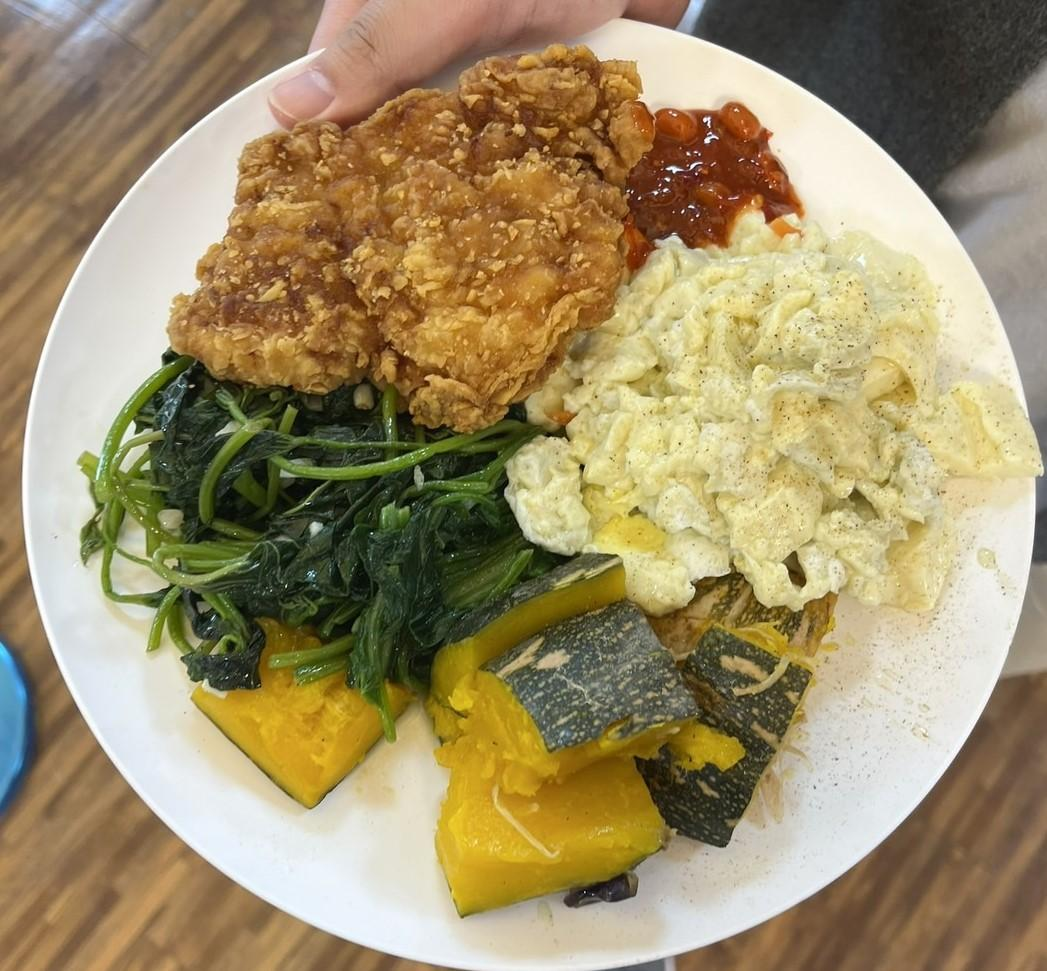braised fish fillet: (181, 552, 839, 915), (504, 214, 1040, 624), (74, 354, 536, 693)
braised pork: (160, 42, 656, 426)
